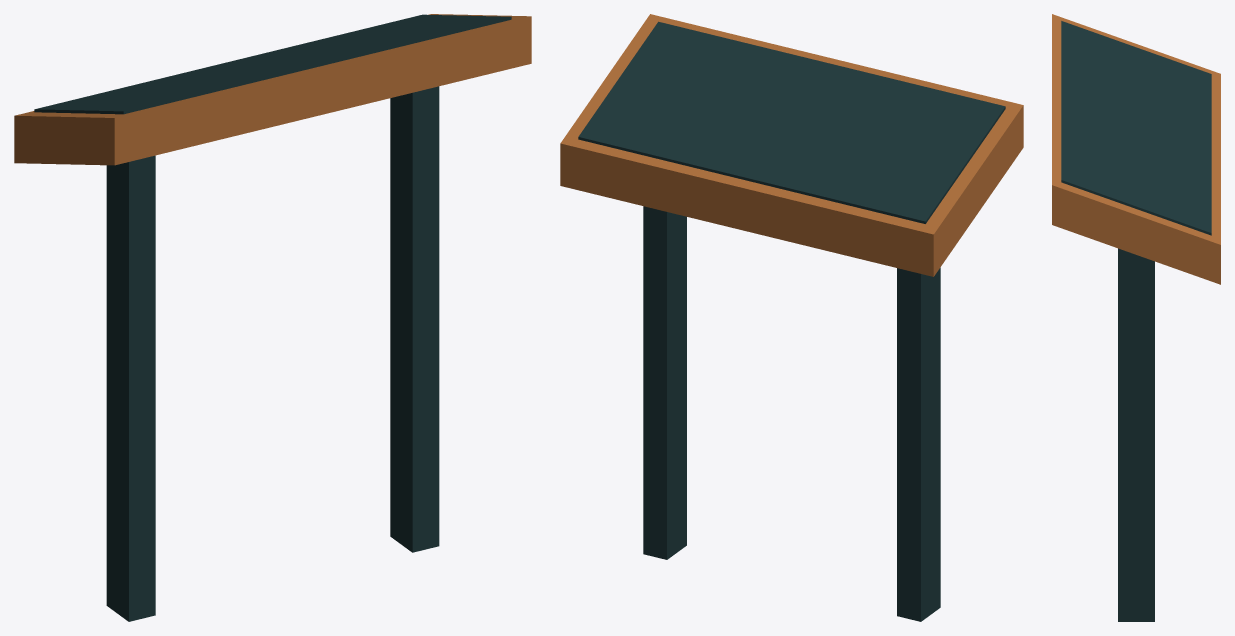
Rendered from info_stand_floor.fbx.
The picture shows the model from 3 angles, left to right: view 1: azimuth 30°, elevation 25°; view 2: azimuth 150°, elevation 25°; view 3: azimuth 270°, elevation 25°; orthographic projection. The views are drawn at different scales.
Visible parts, largest first — view 1: info_stand_floor; view 2: info_stand_floor; view 3: info_stand_floor.
Boxes of the visible parts, <box> form: info_stand_floor: <box>14,14,531,621</box>; info_stand_floor: <box>560,14,1023,621</box>; info_stand_floor: <box>1052,14,1220,621</box>.
Bounding box in the file's own units: 1.2 × 1.5 × 0.5.
